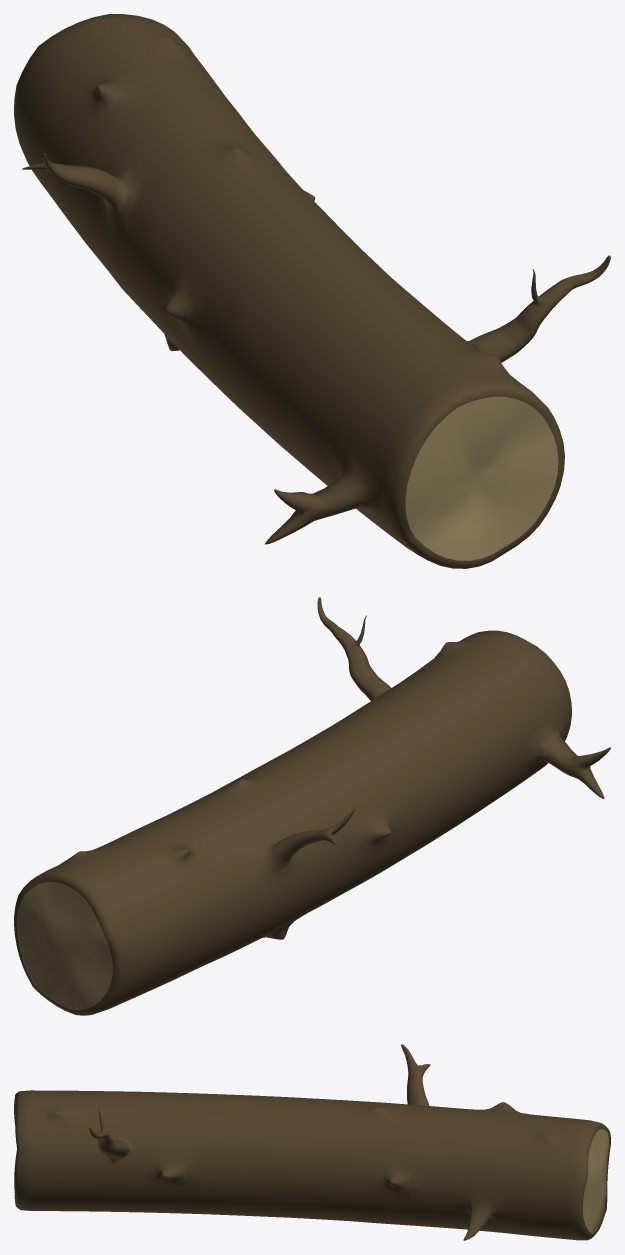
File: TreeLog01.fbx
3 views of the same model, one above another, from view 1: azimuth 30°, elevation 25°; view 2: azimuth 150°, elevation 25°; view 3: azimuth 270°, elevation 25° (orthographic). The views are drawn at different scales.
Visible parts, largest first — view 1: Barch_LOD0; view 2: Barch_LOD0; view 3: Barch_LOD0.
Boxes of the visible parts, x1=… form: Barch_LOD0: x1=14, y1=14, x2=610, y2=568; Barch_LOD0: x1=14, y1=597, x2=610, y2=1015; Barch_LOD0: x1=14, y1=1044, x2=610, y2=1240.
Size of what is drawn, in the model's own units: 131 by 77.67 by 309.
